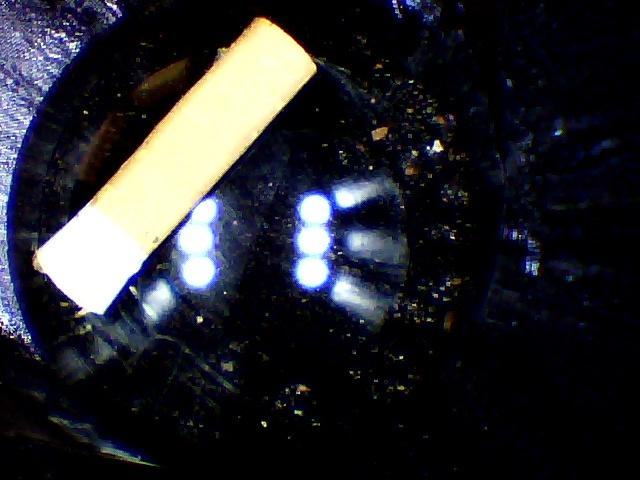megot: (10, 14, 323, 328)
